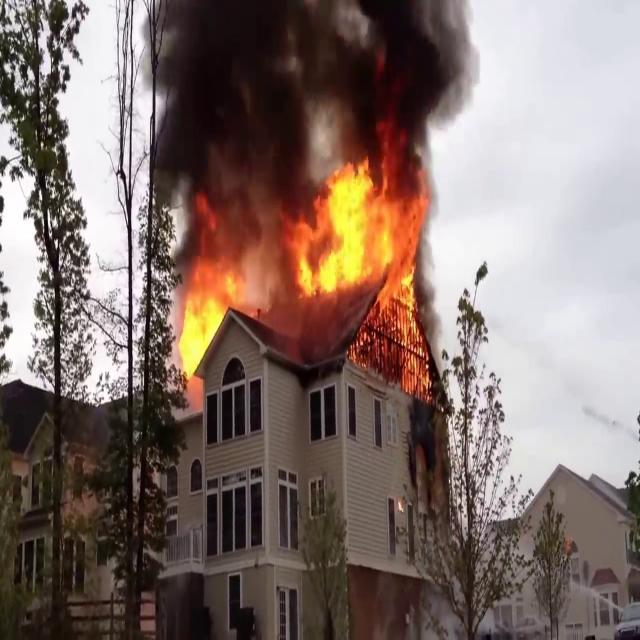Fire: (293, 151, 437, 381), (172, 252, 240, 384)
Smoke: (137, 0, 485, 228)
